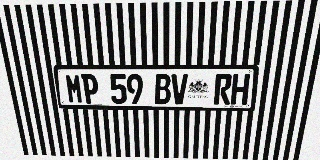5: (110, 74, 127, 104)
9: (126, 74, 143, 104)
B: (154, 74, 171, 104)
H: (230, 74, 250, 105)
M: (65, 74, 84, 104)
P: (81, 74, 100, 104)
R: (214, 74, 233, 105)
V: (171, 74, 188, 104)
